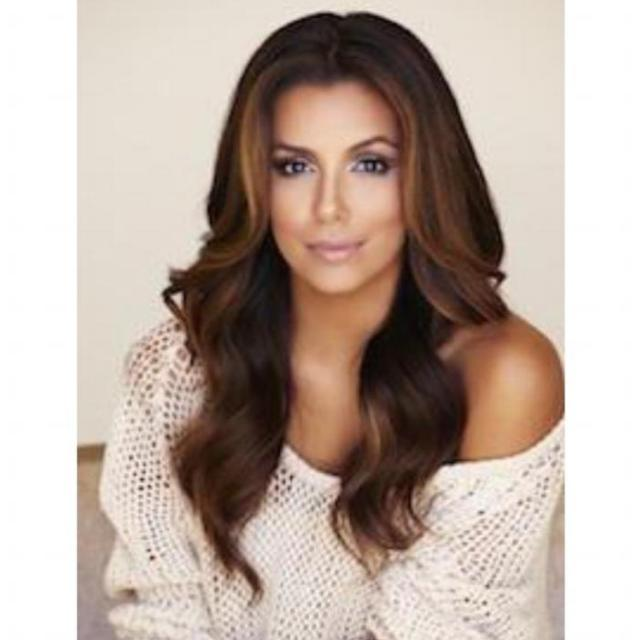live: (242, 59, 422, 306)
